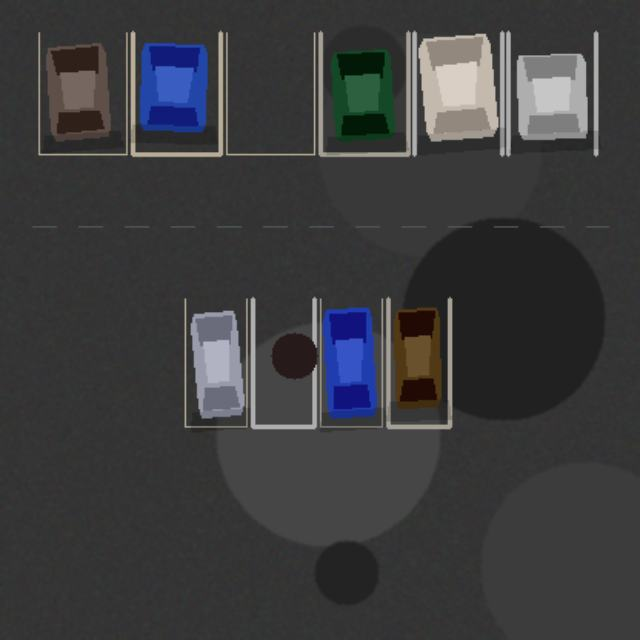space-empty: (226, 32, 314, 154), (252, 298, 314, 426)
space-occupied: (38, 32, 126, 154), (132, 32, 220, 154), (320, 32, 408, 154), (414, 32, 502, 154), (508, 32, 595, 154), (320, 298, 382, 426), (185, 298, 246, 426), (388, 298, 449, 426)
